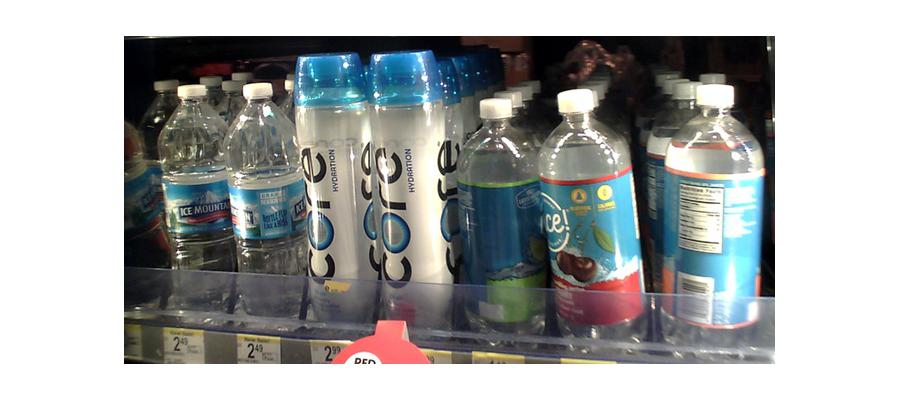bottle: (654, 82, 767, 357), (540, 89, 651, 354), (367, 50, 457, 327), (294, 59, 373, 326), (462, 87, 539, 343), (224, 83, 303, 325), (159, 82, 225, 318)
